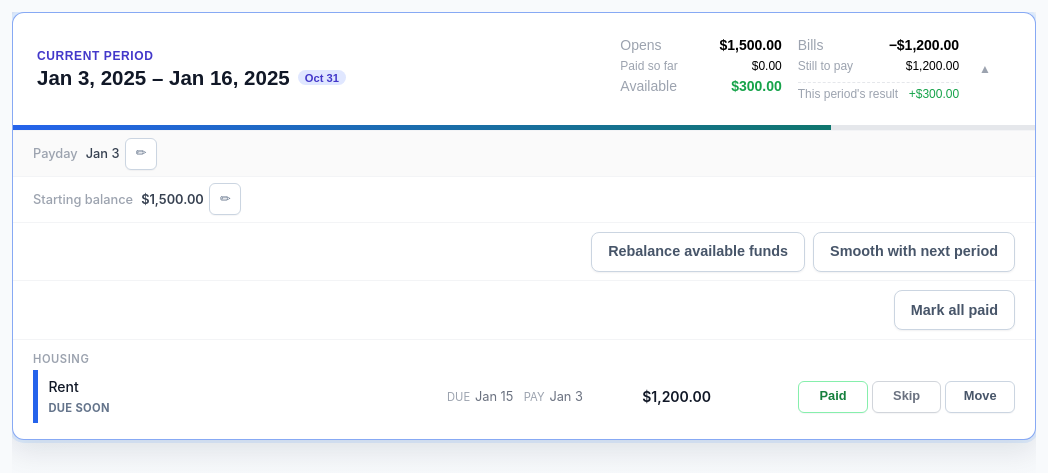
Test: PeriodCard › collapses on second click
Click the button "Current period".
click(95, 56)  # box [13,13,1035,125]
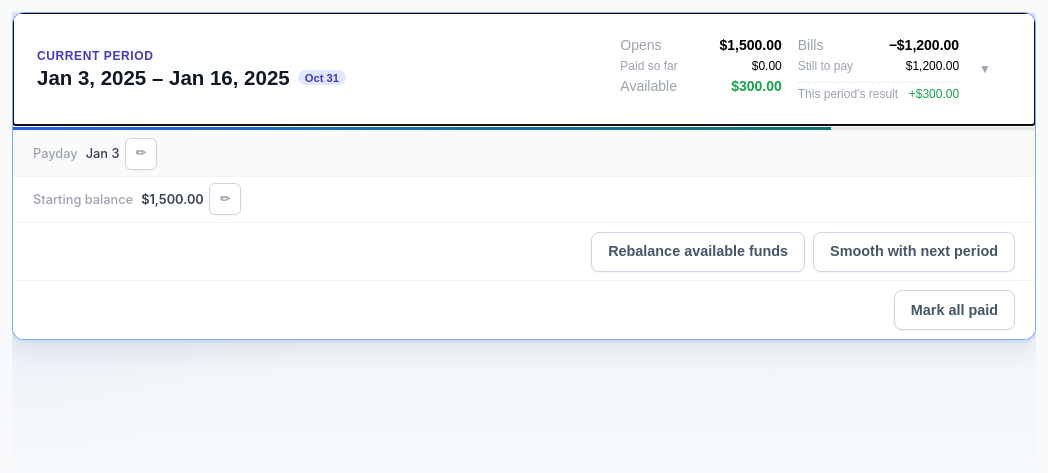
Click the button "Current period".
click(95, 56)  # box [13,13,1035,125]
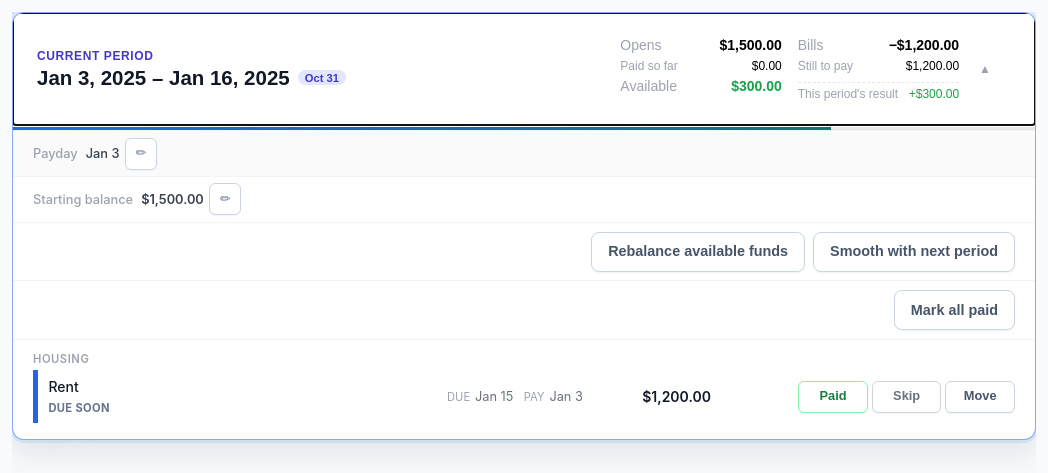
Check: the text "Rent" is shown, box [48,378,79,395]
